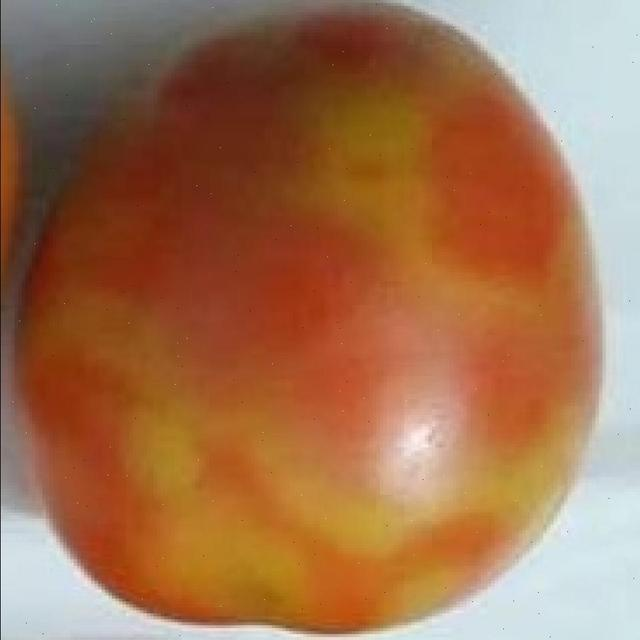Spotted wilt Virus Fruit: (9, 0, 401, 423)
